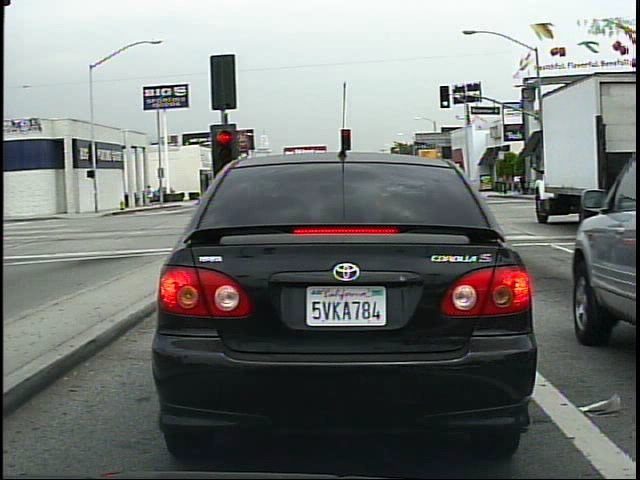person: (519, 169, 528, 198), (149, 181, 156, 208)
